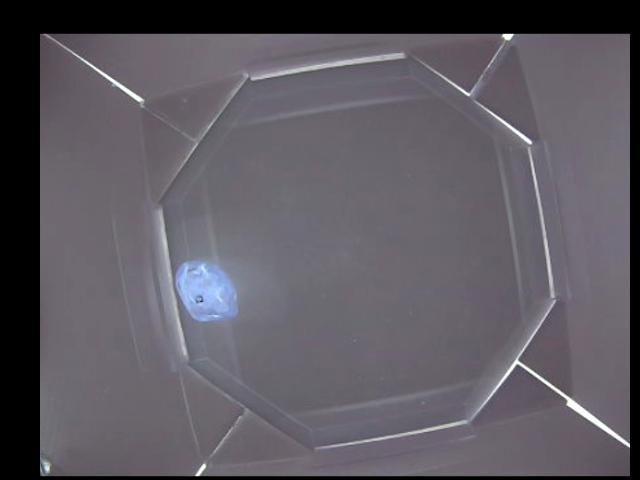Pebble: (177, 257, 240, 318)
